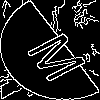M: (25, 25, 98, 85)
